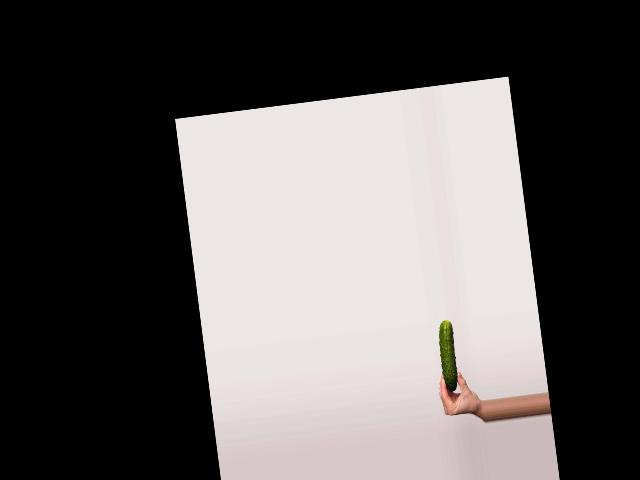cucumber: (436, 320, 459, 392)
